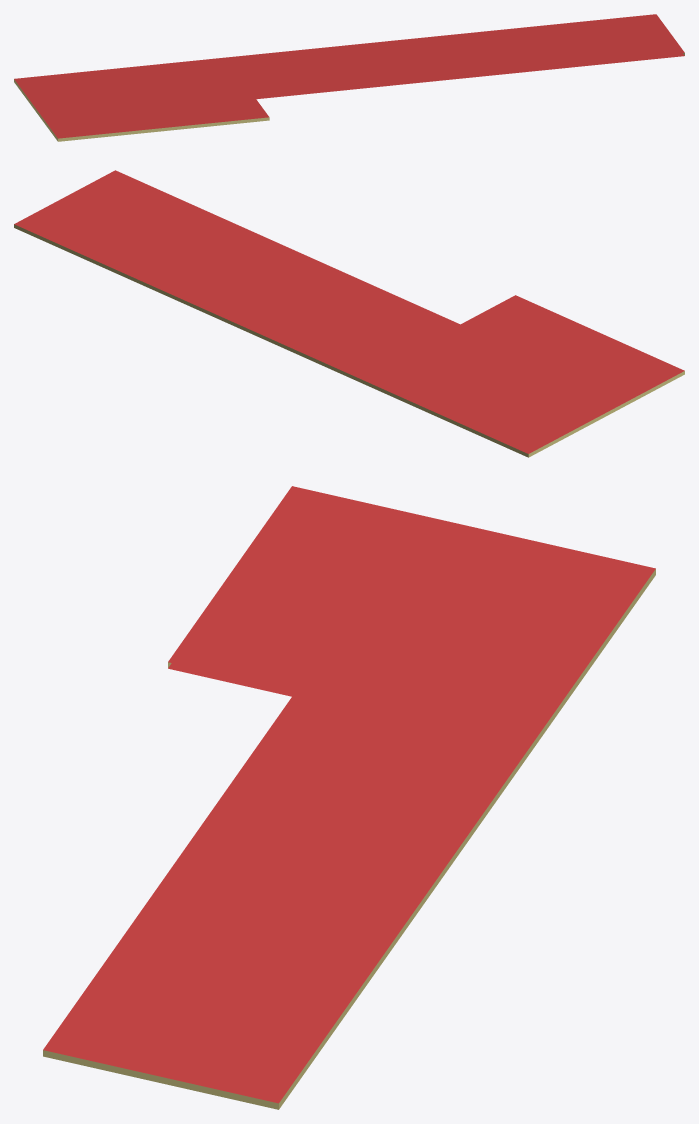
The picture shows the model from 3 angles, top to bottom: view 1: azimuth 30°, elevation 25°; view 2: azimuth 150°, elevation 25°; view 3: azimuth 270°, elevation 25°; orthographic projection. The views are drawn at different scales.
Bounding box in the file's own units: 19.33 × 8.62 × 0.668.
